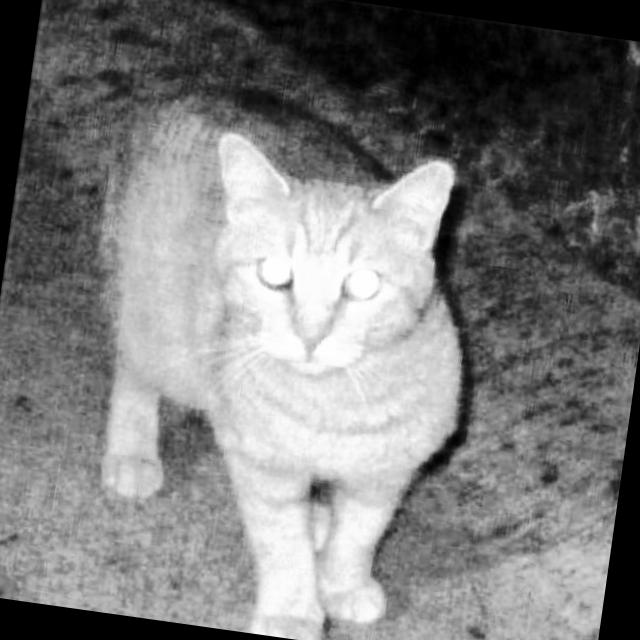Cat: (31, 51, 526, 640)
